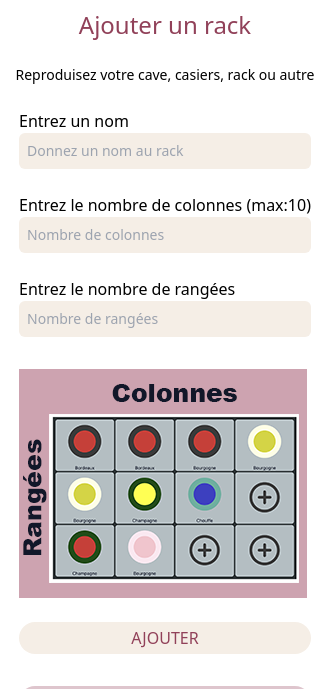
Test: AddRackPage › nombre de rangee superieur a 1
Step 1. Type "Nouveau Rack test" into the field labelled "Entrez un nom" → (165, 151), box [19,133,311,169]
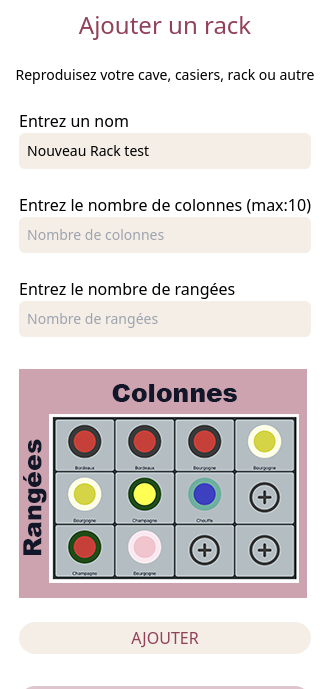
Step 2. Type "5" into the number field with placeholder "Nombre de colonnes" → (165, 235), box [19,217,311,253]
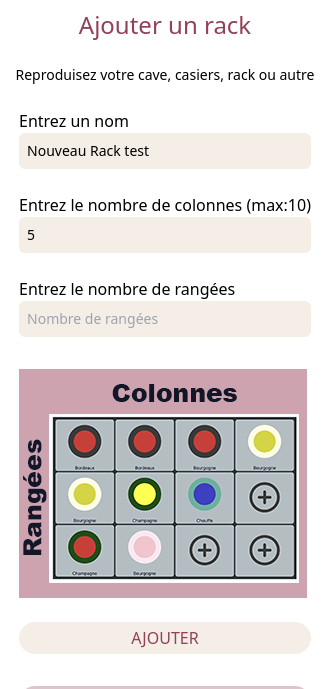
Step 3. Type "0" into the number field with placeholder "Nombre de rangées" → (165, 319), box [19,301,311,337]
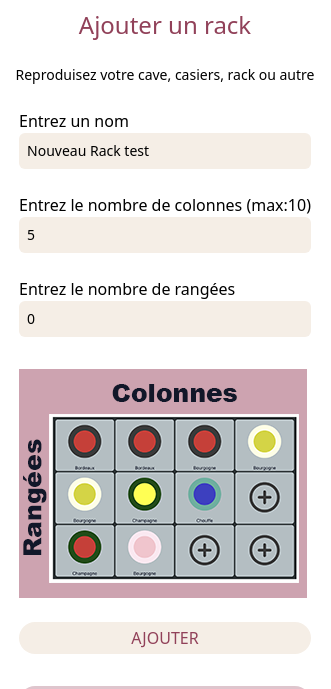
Step 4. Click the button "AJOUTER" → (165, 638), box [19,622,311,654]
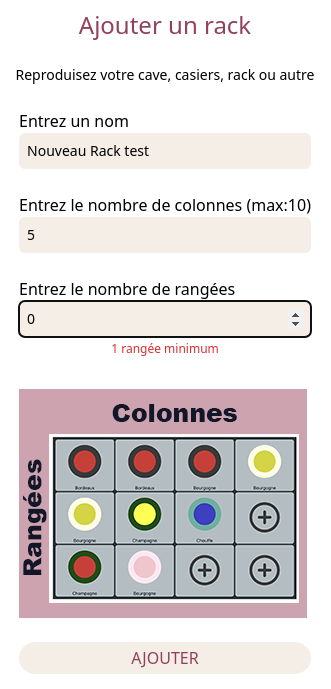
Check: the text "1 rangée minimum" is shown, box [111,340,219,357]
